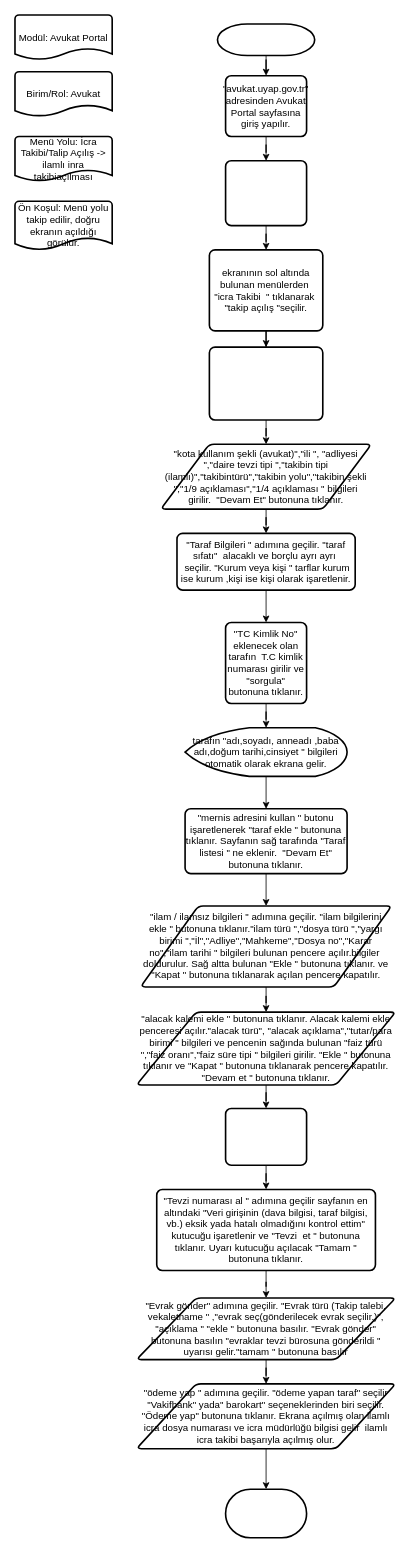
Image size: 410x1552. Some labels were removed from this diagram. Each missing label, with the centre of its shape:
"harç/masraf bilgileri " adımına geçilir."Devam et " butonuna tıklanır.: (x=265, y=1136)
"takip açılış" seçildikten sonra "dosya /takip bilgileri " ekranına geçilir.: (x=265, y=383)
Başla: (x=265, y=39)
Bitir: (x=265, y=1513)
Kullanıcı adı girilerek Avukat Portal ekranına girilir.: (x=265, y=193)
